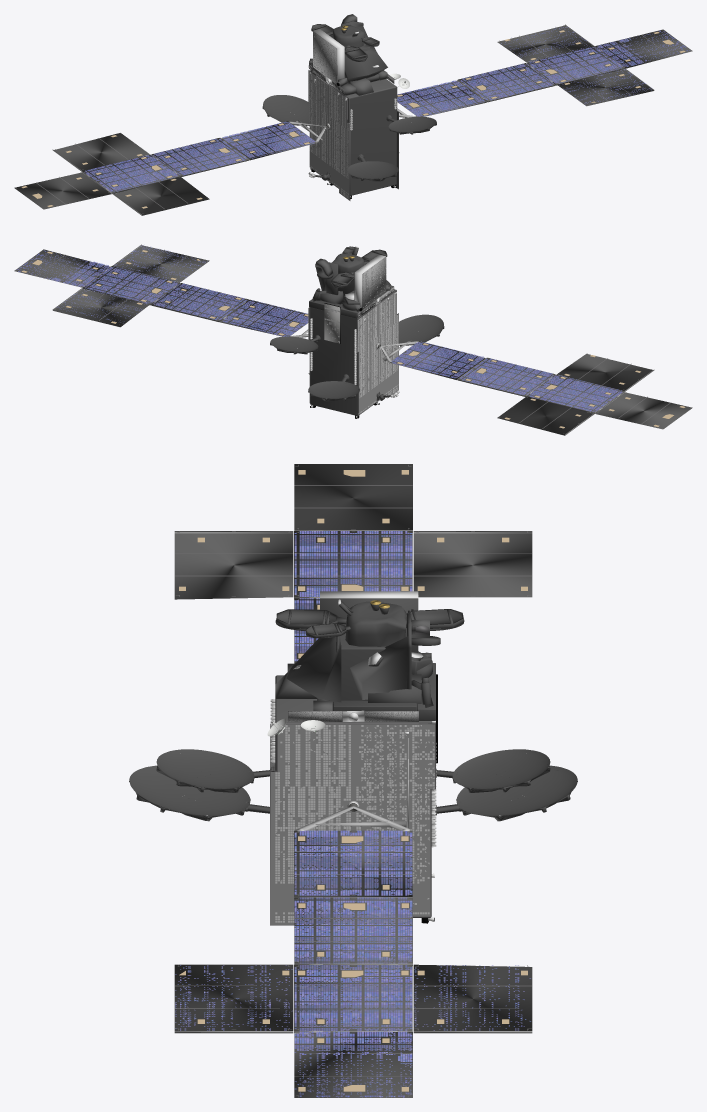
Rendered from ssl1300.glb.
3 renders of one model, top to bottom at view 1: azimuth 30°, elevation 25°; view 2: azimuth 150°, elevation 25°; view 3: azimuth 270°, elevation 25°, orthographic. The views are drawn at different scales.
Parts seen in each view (by area): view 1: Empty_Mesh; view 2: Empty_Mesh; view 3: Empty_Mesh.
Part boxes in pixels (<box>): Empty_Mesh: <box>14,14,692,215</box>; Empty_Mesh: <box>14,244,692,435</box>; Empty_Mesh: <box>129,464,577,1097</box>.
Bounding box in the file's own units: 268 × 61.25 × 80.36.
